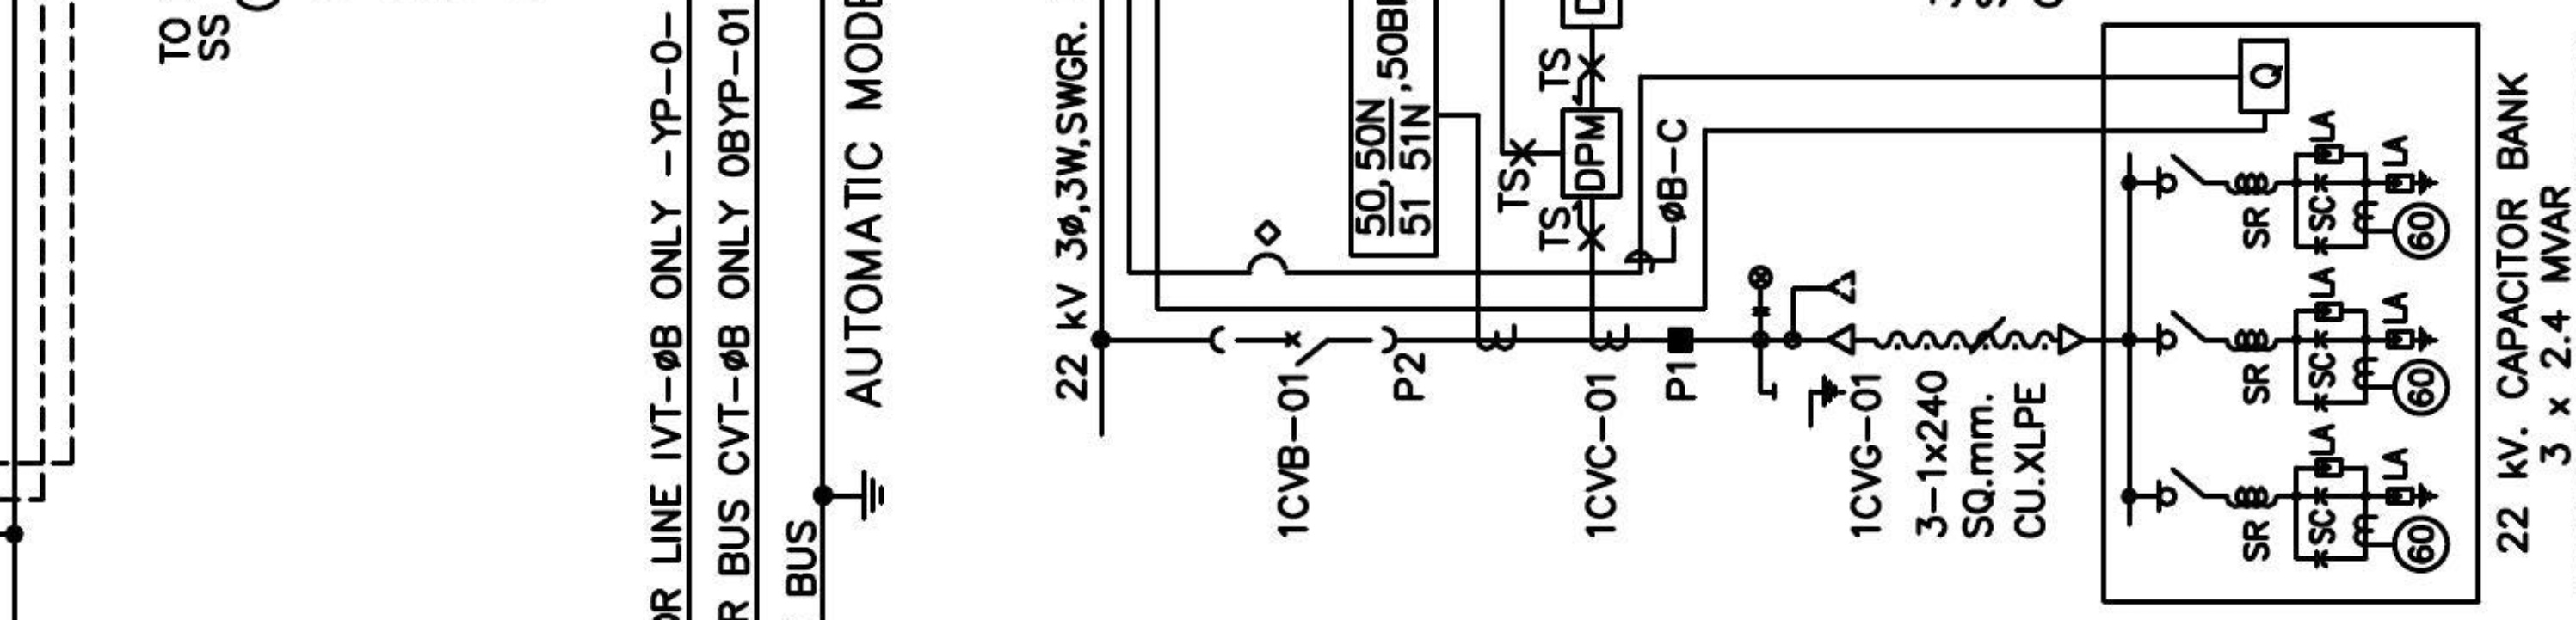22_breaker: (1207, 325, 1400, 369)
22_cap_bank: (2100, 21, 2482, 607)
22_gs: (1771, 372, 1848, 431)
22_ll: (1746, 262, 1774, 318)
DPM: (1559, 105, 1625, 200)
Q: (2238, 36, 2292, 115)
terminator_single: (2055, 321, 2086, 358)
terminator_w_future: (1789, 269, 1856, 358)
